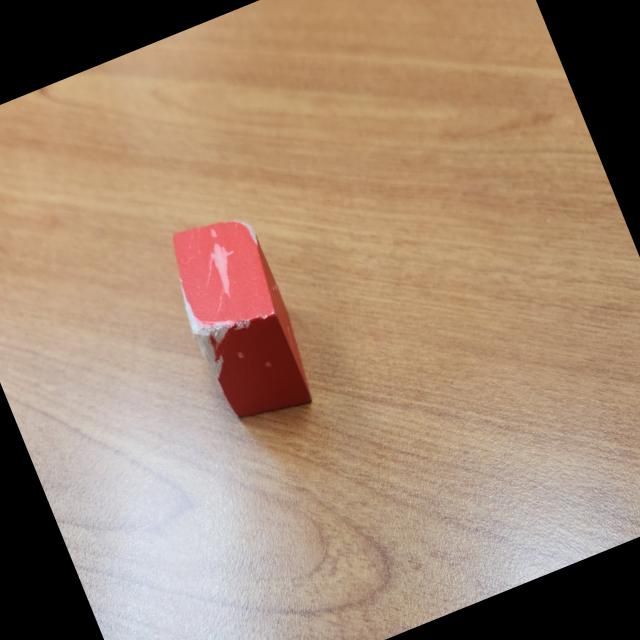broken: (154, 202, 322, 434)
